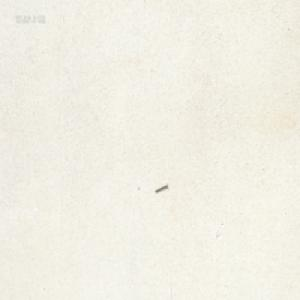Bolt: (154, 184, 168, 194)
